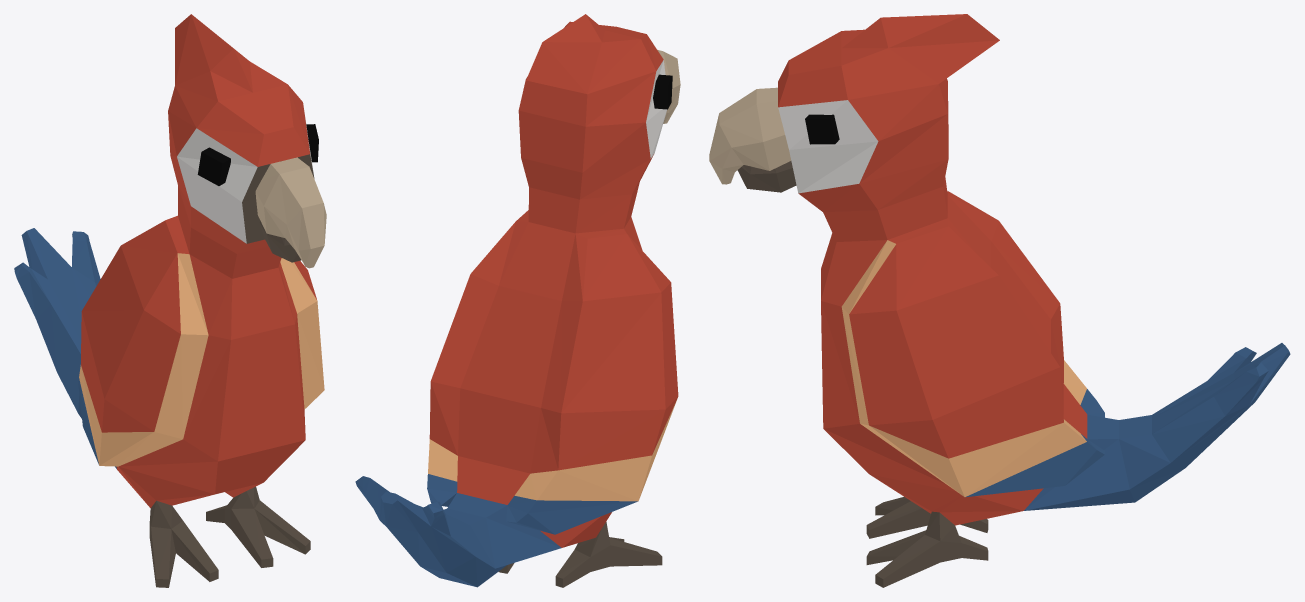
The model's file is SM_Prop_Parrot_01.glb.
3 renders of one model, left to right at view 1: azimuth 30°, elevation 25°; view 2: azimuth 150°, elevation 25°; view 3: azimuth 270°, elevation 25°, orthographic. The views are drawn at different scales.
Visible parts, largest first — view 1: SM_Prop_Parrot_01; view 2: SM_Prop_Parrot_01; view 3: SM_Prop_Parrot_01.
Part boxes in pixels (<box>): SM_Prop_Parrot_01: <box>14,14,326,587</box>; SM_Prop_Parrot_01: <box>355,14,680,587</box>; SM_Prop_Parrot_01: <box>709,14,1290,587</box>.
Size of the model in its own units: 0.1169 by 0.2821 by 0.2777.
